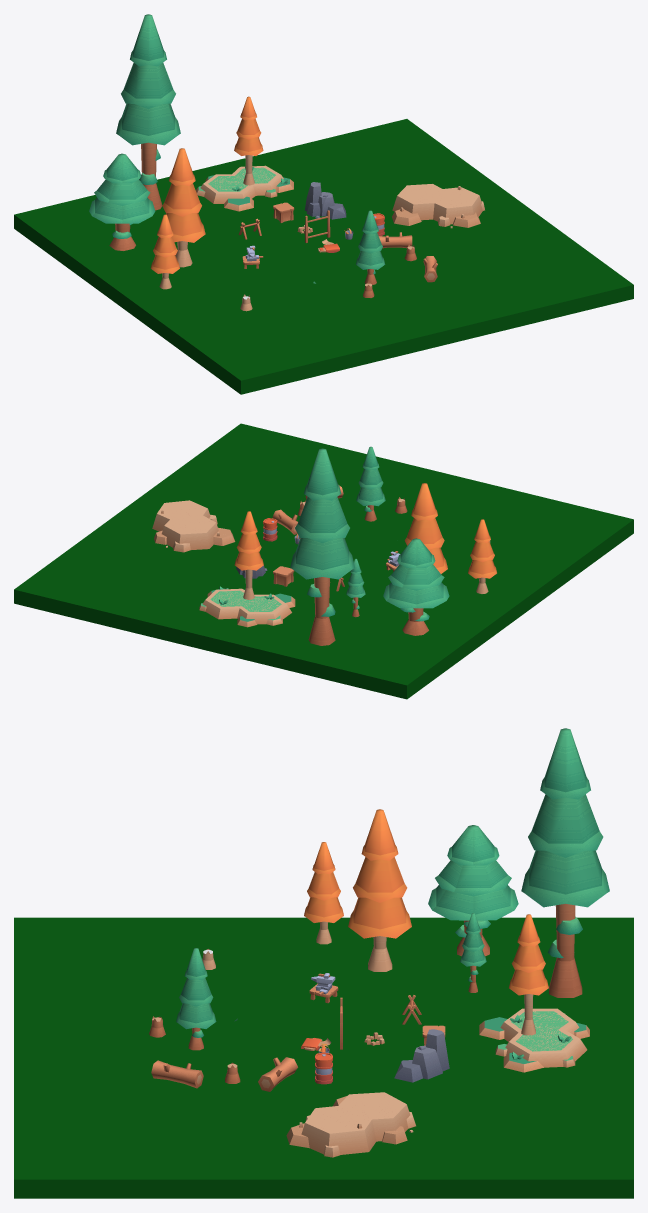
Rendered from Forest.glb.
3 views of the same model, one above another, from view 1: azimuth 30°, elevation 25°; view 2: azimuth 150°, elevation 25°; view 3: azimuth 270°, elevation 25° (orthographic). The views are drawn at different scales.
Parts seen in each view (by area): view 1: Cube, tree-tall.002, tree-tall.001, rock-flat, tree-autumn.001, rock-flat-grass, tree-autumn-tall, tree-autumn, tree, rock-c; view 2: Cube, tree-tall.002, tree-tall.001, rock-flat, rock-flat-grass, tree-autumn.001, tree-autumn-tall, tree, tree-autumn, tree-tall; view 3: Cube, tree-tall.002, tree-tall.001, tree-autumn.001, rock-flat, rock-flat-grass, tree-autumn-tall, tree, tree-autumn, rock-c, tree-tall, tree-log-small.001 (+1 smaller).
Boxes of the visible parts, x1=… form: Cube: x1=14, y1=119, x2=633, y2=394; tree-tall.002: x1=116, y1=14, x2=180, y2=210; tree-tall.001: x1=89, y1=153, x2=155, y2=250; rock-flat: x1=392, y1=184, x2=484, y2=228; tree-autumn.001: x1=162, y1=148, x2=205, y2=267; rock-flat-grass: x1=196, y1=165, x2=293, y2=211; tree-autumn-tall: x1=234, y1=96, x2=263, y2=185; tree-autumn: x1=150, y1=214, x2=179, y2=289; tree: x1=356, y1=210, x2=385, y2=284; rock-c: x1=305, y1=182, x2=346, y2=219; Cube: x1=14, y1=423, x2=633, y2=699; tree-tall.002: x1=290, y1=448, x2=354, y2=645; tree-tall.001: x1=383, y1=538, x2=449, y2=635; rock-flat: x1=152, y1=500, x2=235, y2=552; rock-flat-grass: x1=199, y1=586, x2=295, y2=627; tree-autumn.001: x1=404, y1=483, x2=447, y2=573; tree-autumn-tall: x1=234, y1=511, x2=263, y2=599; tree: x1=356, y1=446, x2=385, y2=521; tree-autumn: x1=468, y1=519, x2=496, y2=593; tree-tall: x1=346, y1=558, x2=365, y2=617; Cube: x1=14, y1=917, x2=633, y2=1198; tree-tall.002: x1=521, y1=728, x2=609, y2=997; tree-tall.001: x1=428, y1=825, x2=518, y2=956; tree-autumn.001: x1=348, y1=809, x2=411, y2=971; rock-flat: x1=286, y1=1092, x2=415, y2=1157; rock-flat-grass: x1=479, y1=1008, x2=589, y2=1072; tree-autumn-tall: x1=509, y1=914, x2=548, y2=1035; tree: x1=176, y1=948, x2=216, y2=1050; tree-autumn: x1=304, y1=842, x2=343, y2=944; rock-c: x1=394, y1=1029, x2=449, y2=1082; tree-tall: x1=460, y1=913, x2=486, y2=992; tree-log-small.001: x1=151, y1=1060, x2=203, y2=1088.
Size of the model in its own units: 9.06 by 4.5 by 9.06.
22 materials, 21 textured.
